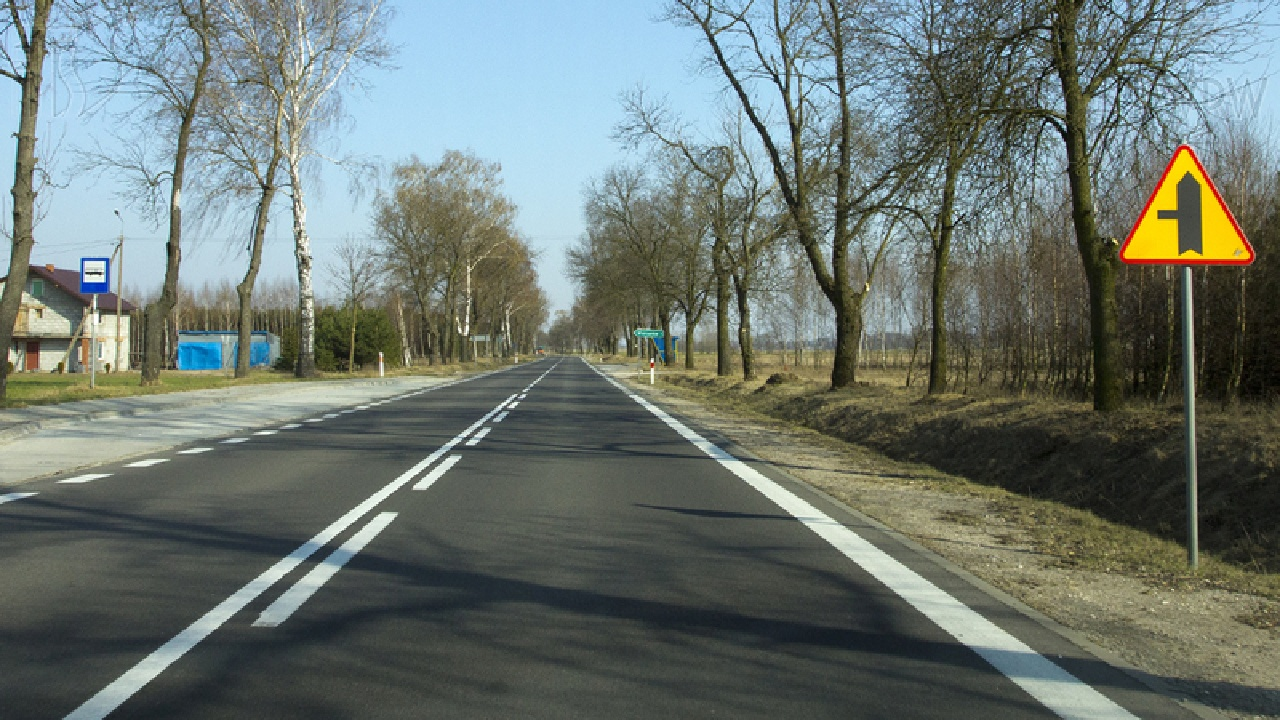A6c: (1120, 146, 1257, 267)
